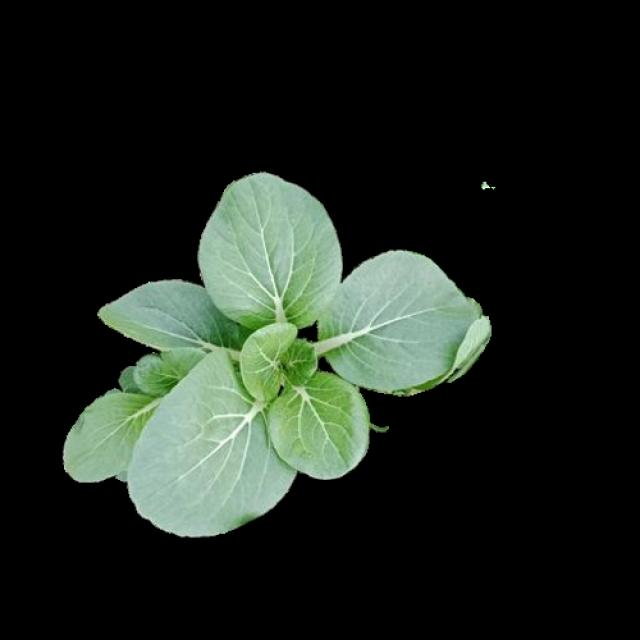healthy: (60, 172, 485, 528)
not-mature: (62, 174, 488, 530)
